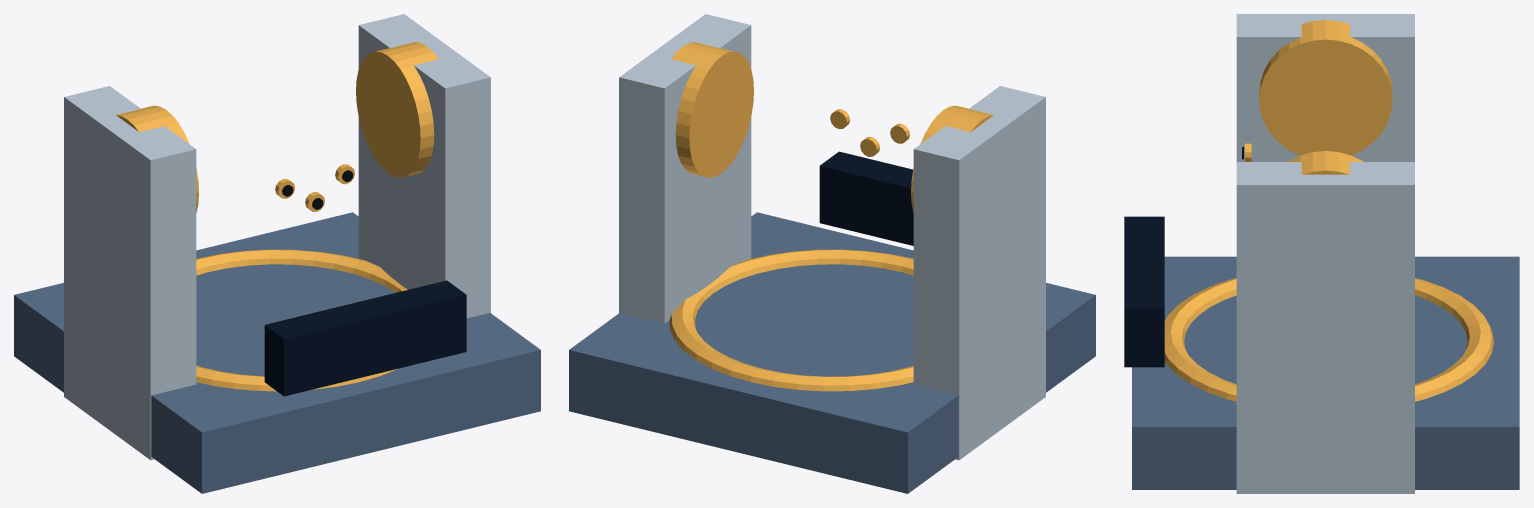
File: 20_L91_TelescopeGimbalA.fbx
3 renders of one model, left to right at view 1: azimuth 30°, elevation 25°; view 2: azimuth 150°, elevation 25°; view 3: azimuth 270°, elevation 25°, orthographic. The views are drawn at different scales.
Visible parts, largest first — view 1: L91_TelescopeGimbalA, L91_TelescopeGimbalA_Part_0002, L91_TelescopeGimbalA_Part_0004; view 2: L91_TelescopeGimbalA, L91_TelescopeGimbalA_Part_0002, L91_TelescopeGimbalA_Part_0004; view 3: L91_TelescopeGimbalA, L91_TelescopeGimbalA_Part_0002, L91_TelescopeGimbalA_Part_0004.
Boxes of the visible parts, x1=… form: L91_TelescopeGimbalA: x1=14, y1=14, x2=540, y2=493; L91_TelescopeGimbalA_Part_0002: x1=116, y1=42, x2=438, y2=212; L91_TelescopeGimbalA_Part_0004: x1=196, y1=249, x2=407, y2=391; L91_TelescopeGimbalA: x1=569, y1=14, x2=1095, y2=493; L91_TelescopeGimbalA_Part_0002: x1=671, y1=42, x2=993, y2=212; L91_TelescopeGimbalA_Part_0004: x1=669, y1=249, x2=913, y2=391; L91_TelescopeGimbalA: x1=1124, y1=14, x2=1519, y2=493; L91_TelescopeGimbalA_Part_0002: x1=1259, y1=20, x2=1392, y2=174; L91_TelescopeGimbalA_Part_0004: x1=1164, y1=278, x2=1493, y2=401.
Bounding box in the file's own units: 261 × 223 × 255.
